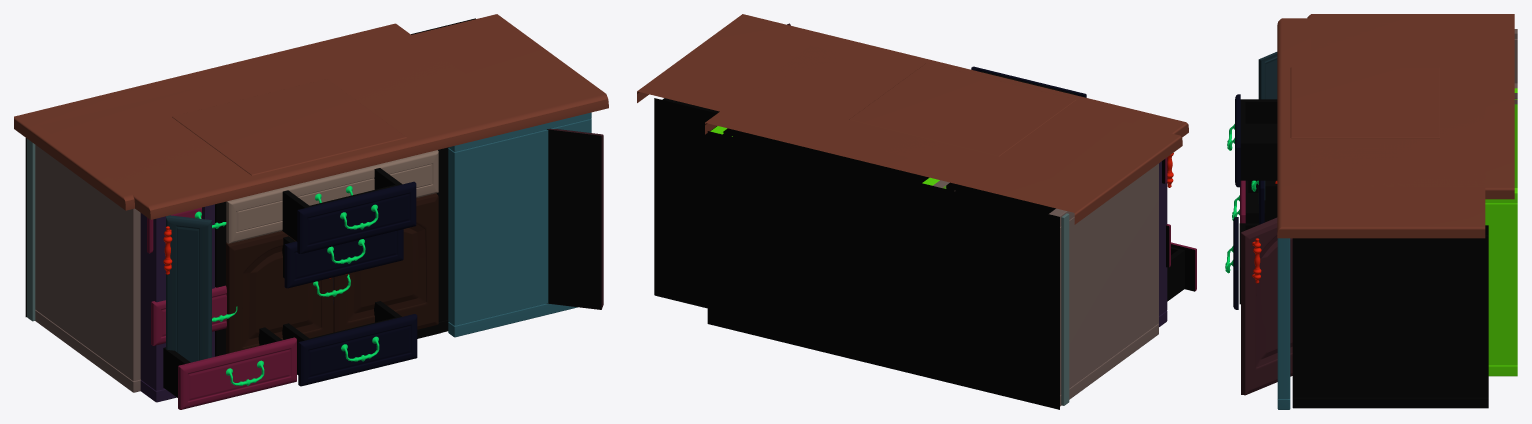
Rendered from lower cabinets.fbx.
3 views of the same model, side by side, from view 1: azimuth 30°, elevation 25°; view 2: azimuth 150°, elevation 25°; view 3: azimuth 270°, elevation 25° (orthographic). The views are drawn at different scales.
Visible parts, largest first — view 1: lower_cabinet_2, lower_cabinet_3, lower_cabinet_1; view 2: lower_cabinet_3, lower_cabinet_2, lower_cabinet_1; view 3: lower_cabinet_2, lower_cabinet_3, lower_cabinet_1.
Boxes of the visible parts, x1,y1,x2,y2 form: lower_cabinet_2: (39, 14, 608, 402); lower_cabinet_3: (14, 23, 603, 409); lower_cabinet_1: (172, 79, 417, 386); lower_cabinet_3: (705, 23, 1196, 409); lower_cabinet_2: (637, 14, 1188, 326); lower_cabinet_1: (849, 63, 1086, 156); lower_cabinet_2: (1258, 18, 1488, 409); lower_cabinet_3: (1232, 14, 1517, 395); lower_cabinet_1: (1225, 67, 1439, 309).
Bounding box in the file's own units: 190 × 80.07 × 111.
